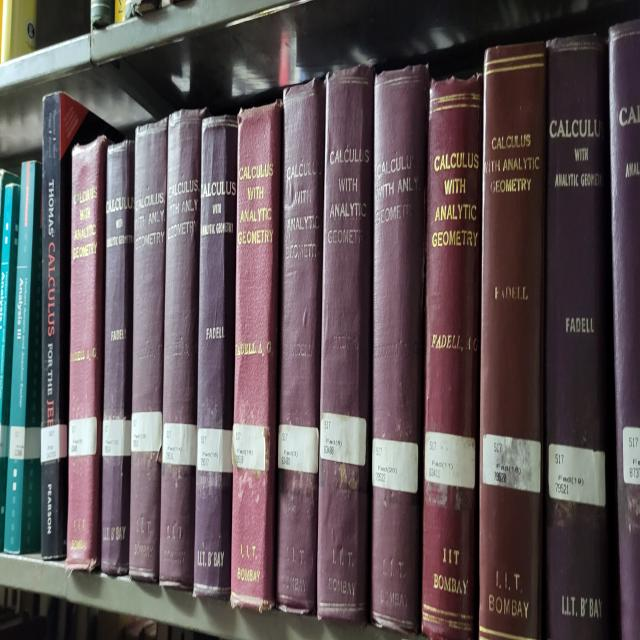Book: (544, 35, 619, 639), (479, 43, 546, 639), (421, 76, 482, 639), (40, 92, 111, 560), (371, 65, 429, 633), (318, 65, 374, 625), (276, 78, 325, 614), (231, 100, 282, 611), (160, 108, 206, 590), (194, 116, 238, 598), (609, 19, 640, 639), (66, 135, 109, 571), (129, 119, 168, 582), (4, 160, 42, 555), (101, 141, 135, 574), (0, 181, 20, 552)
Label: (482, 433, 541, 492), (549, 444, 605, 506), (425, 430, 475, 490), (372, 438, 419, 492), (320, 411, 366, 465), (278, 425, 319, 473), (232, 425, 268, 471), (198, 427, 232, 473), (162, 422, 198, 465), (131, 411, 162, 452), (69, 417, 98, 457), (9, 425, 41, 460), (102, 419, 131, 457), (622, 427, 640, 484), (41, 425, 68, 463), (0, 425, 9, 457)
